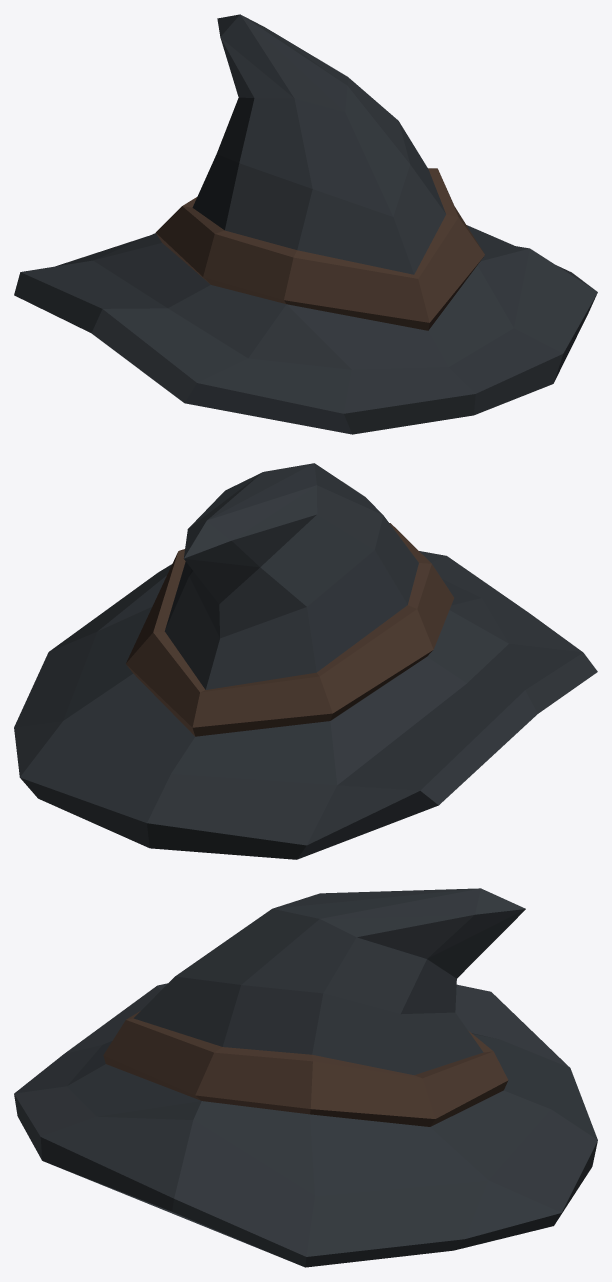
Rendered from Chr_HeadCoverings_Base_Hair_02_Static.fbx.
3 views of the same model, one above another, from view 1: azimuth 30°, elevation 25°; view 2: azimuth 150°, elevation 25°; view 3: azimuth 270°, elevation 25° (orthographic). The views are drawn at different scales.
Visible parts, largest first — view 1: Chr_HeadCoverings_Base_Hair_02_Static; view 2: Chr_HeadCoverings_Base_Hair_02_Static; view 3: Chr_HeadCoverings_Base_Hair_02_Static.
Part boxes in pixels (<box>): Chr_HeadCoverings_Base_Hair_02_Static: <box>14,14,597,434</box>; Chr_HeadCoverings_Base_Hair_02_Static: <box>14,463,597,859</box>; Chr_HeadCoverings_Base_Hair_02_Static: <box>14,888,597,1267</box>.
Bounding box in the file's own units: 0.5481 × 0.3061 × 0.5819.
